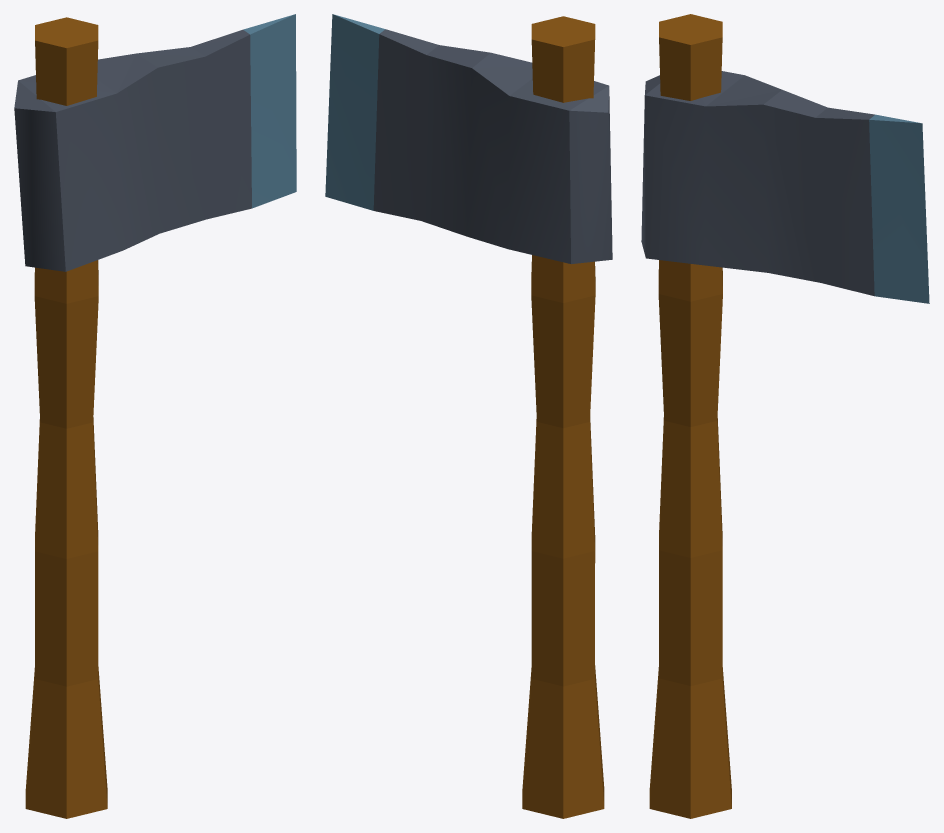
The model's file is hacha.fbx.
3 views of the same model, side by side, from view 1: azimuth 30°, elevation 25°; view 2: azimuth 150°, elevation 25°; view 3: azimuth 330°, elevation 25° (orthographic).
Visible parts, largest first — view 1: Box028, Cylinder074; view 2: Box028, Cylinder074; view 3: Box028, Cylinder074.
Boxes of the visible parts, x1,y1,x2,y2 form: Box028: (14, 14, 296, 271); Cylinder074: (25, 17, 107, 818); Box028: (325, 14, 612, 264); Cylinder074: (522, 16, 604, 818); Box028: (641, 71, 929, 303); Cylinder074: (649, 14, 731, 818).
Size of the model in its own units: 19.29 by 50 by 5.32.
